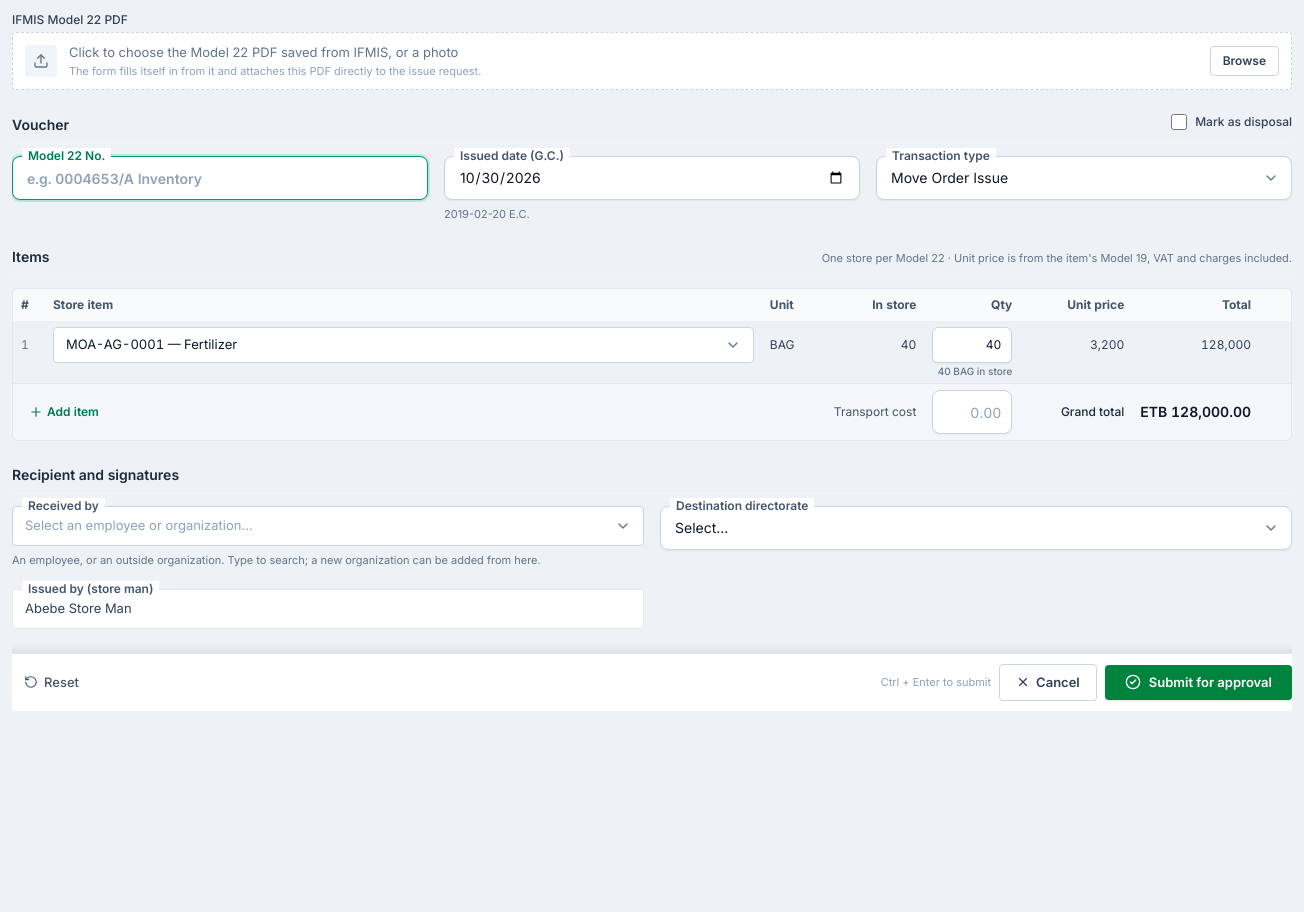
Test case: Issue items (Model 22): one picker for an employee or an organization › adds a new organization to the list from the picker, and chooses it
Click the dropdown named "Received by" at (139, 525), box 12,506 -> 644,546
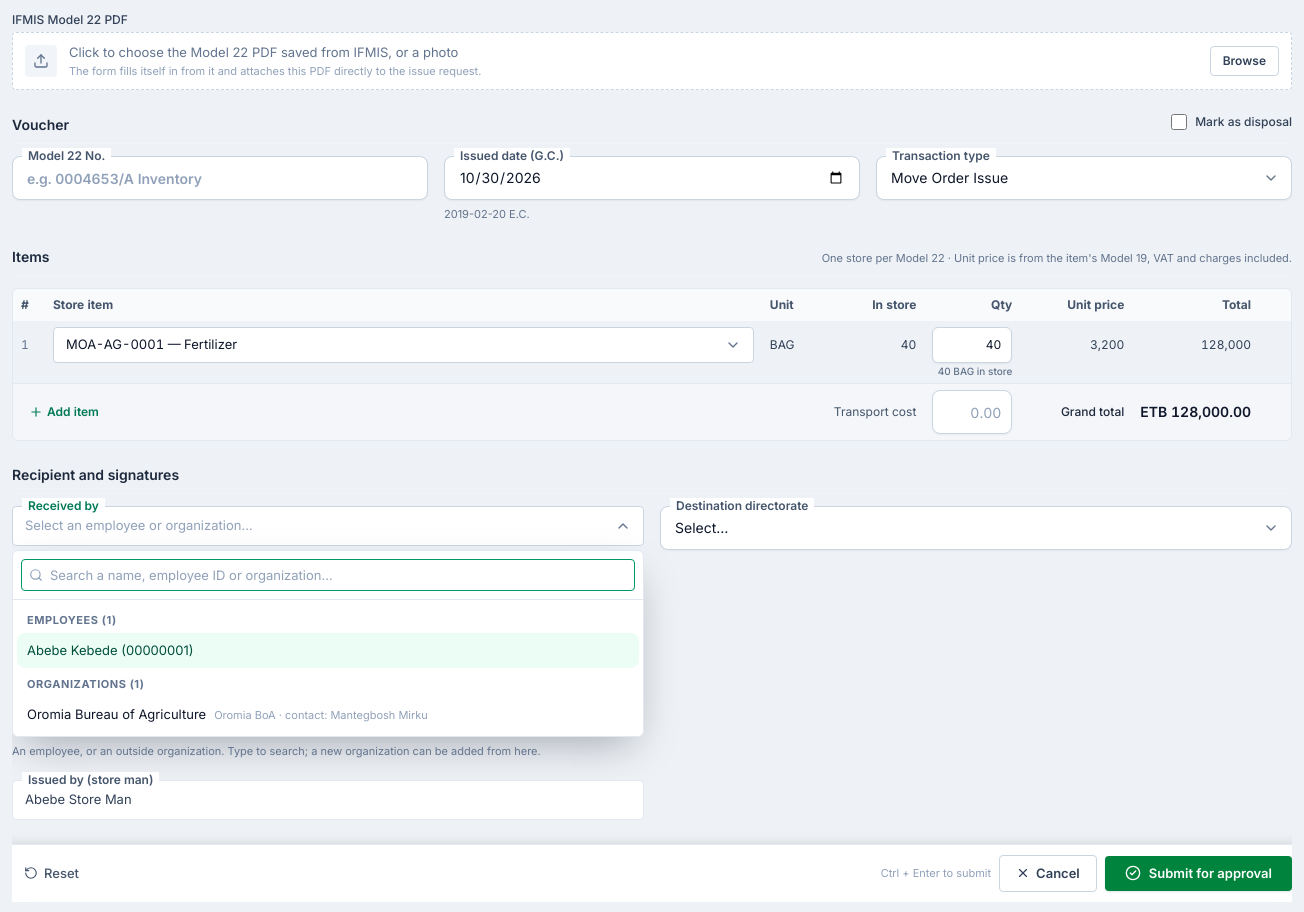
Type "Amhara Bureau of Agriculture" into the field named "Search the list" at (328, 575), box 21,559 -> 635,591
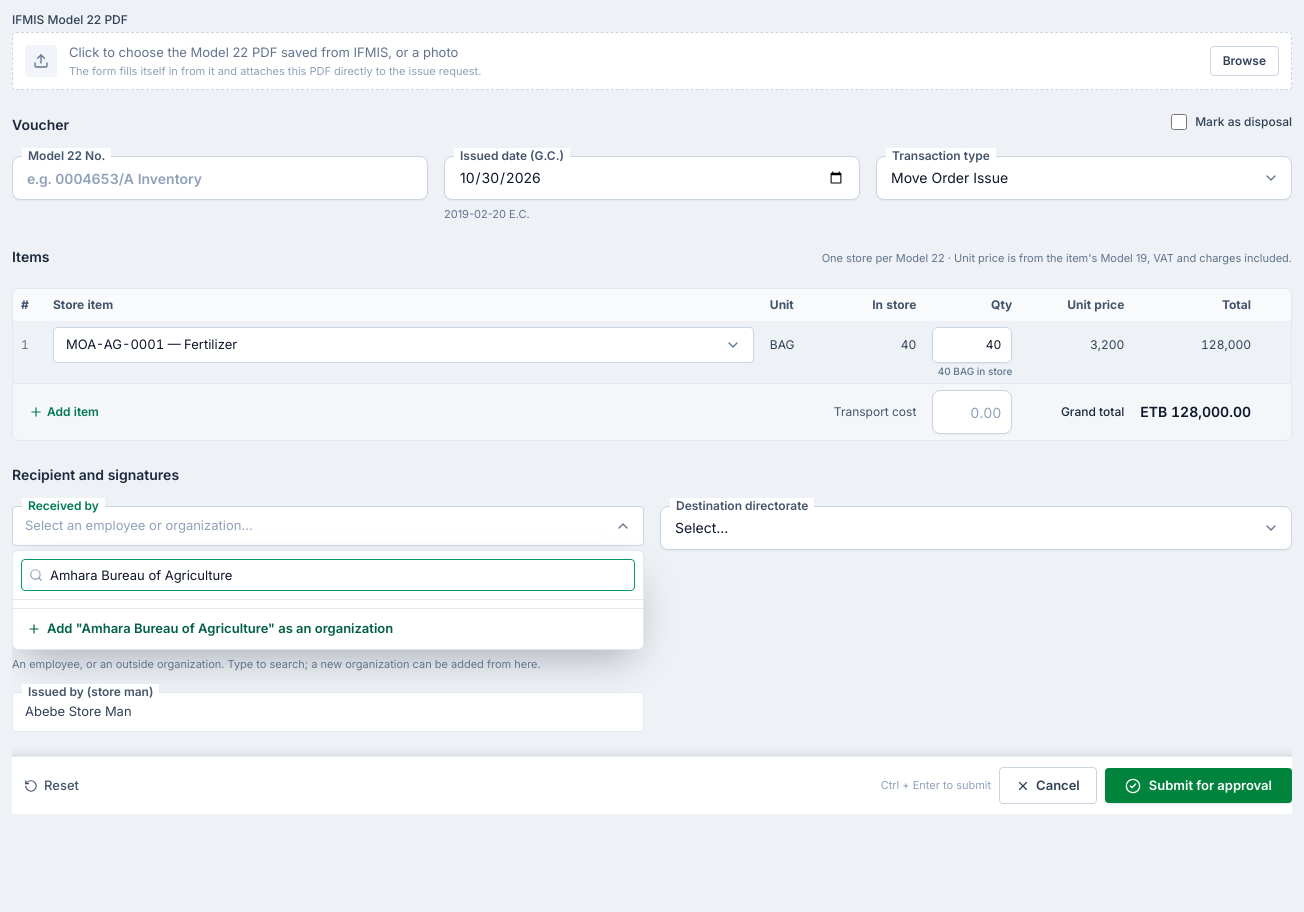
Click the button "Add \"Amhara Bureau of Agriculture\" as an organization" at (328, 628), box 13,608 -> 643,648
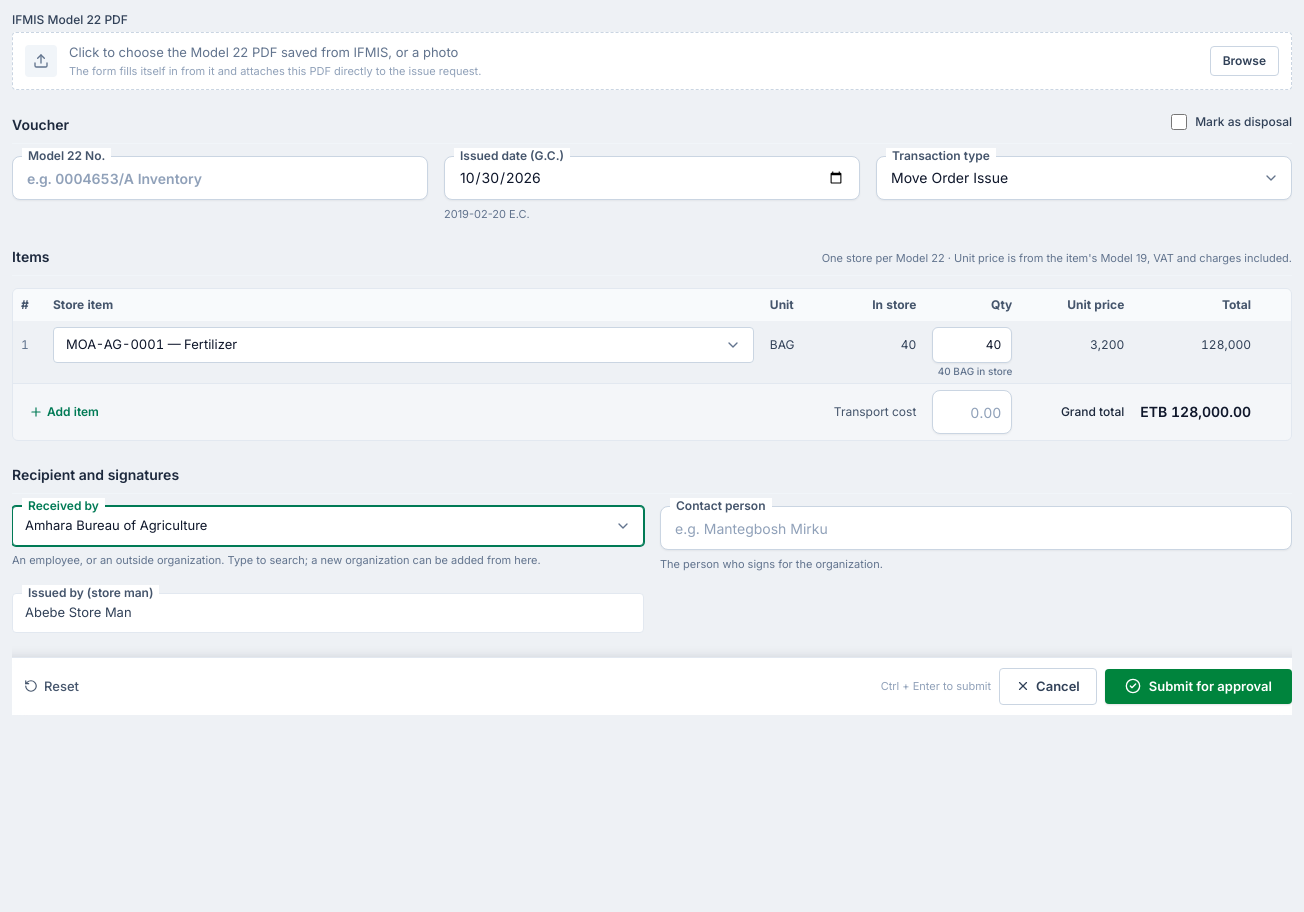
Check: the dropdown named "Received by" reads "Amhara Bureau of Agriculture", box 12,506 -> 644,546
Check: the field labelled "Contact person" is empty, box 660,506 -> 1292,550
